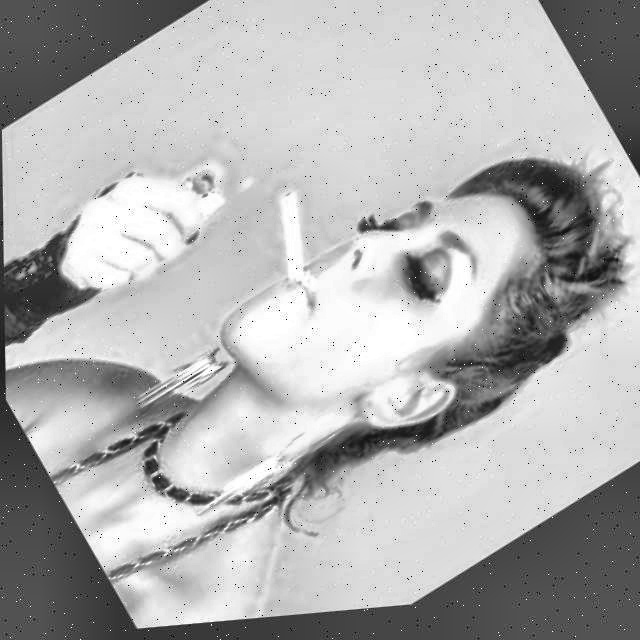Fire: (213, 164, 269, 214)
